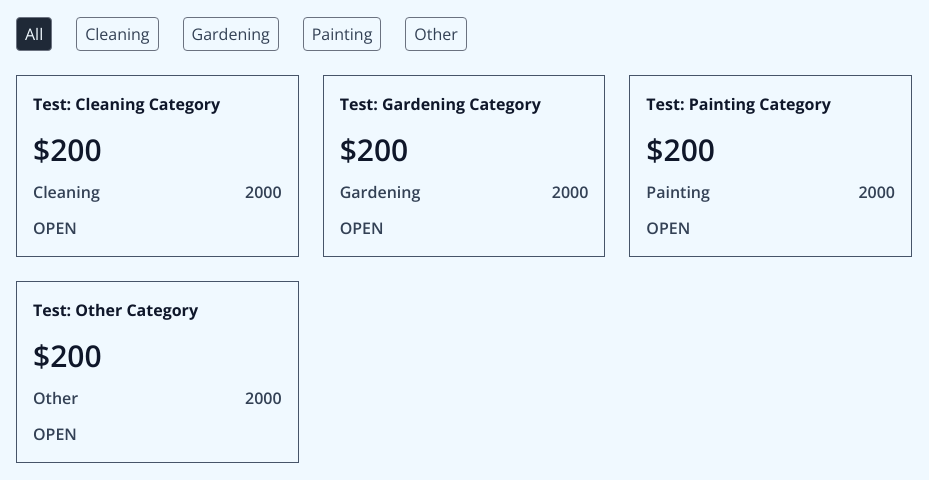
ListingsPage › when the user clicks on the 'gardening' filter › it filters the listings
Expected: the number of list items is 4, left=16, top=75, right=299, bottom=257; left=323, top=75, right=605, bottom=257; left=629, top=75, right=912, bottom=257; left=16, top=281, right=299, bottom=463
Click the button "Gardening" at point(231, 34), box left=182, top=17, right=279, bottom=51
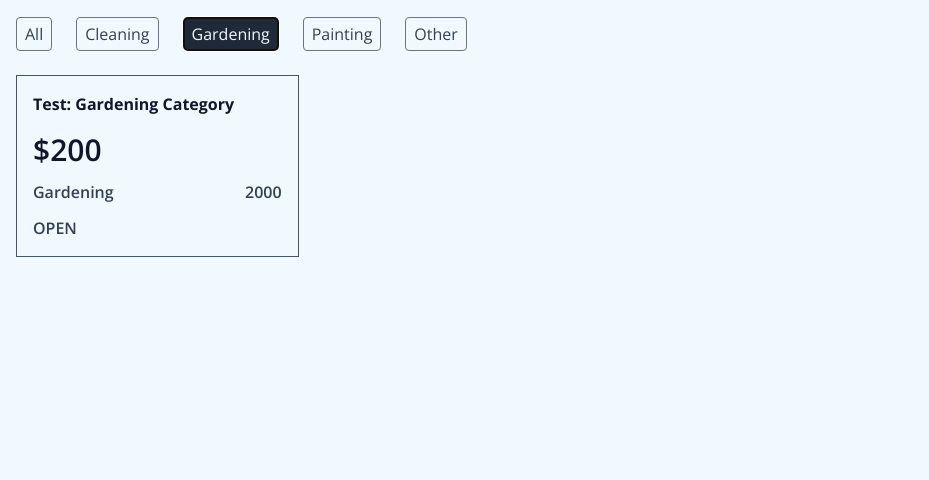
Expected: the number of list items is 1, left=16, top=75, right=299, bottom=257
